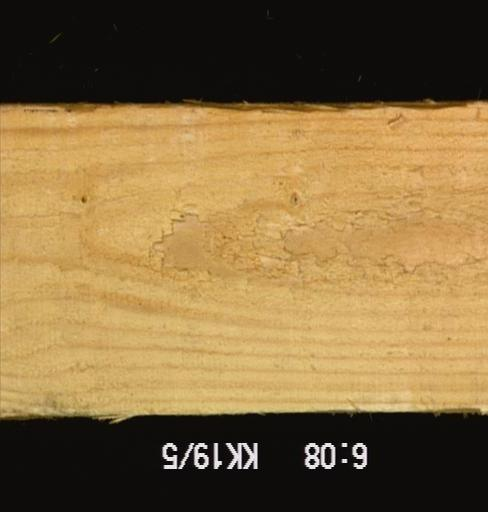small_knot: (284, 187, 303, 211), (74, 189, 91, 211)
wave: (179, 103, 476, 123), (22, 103, 121, 121)
